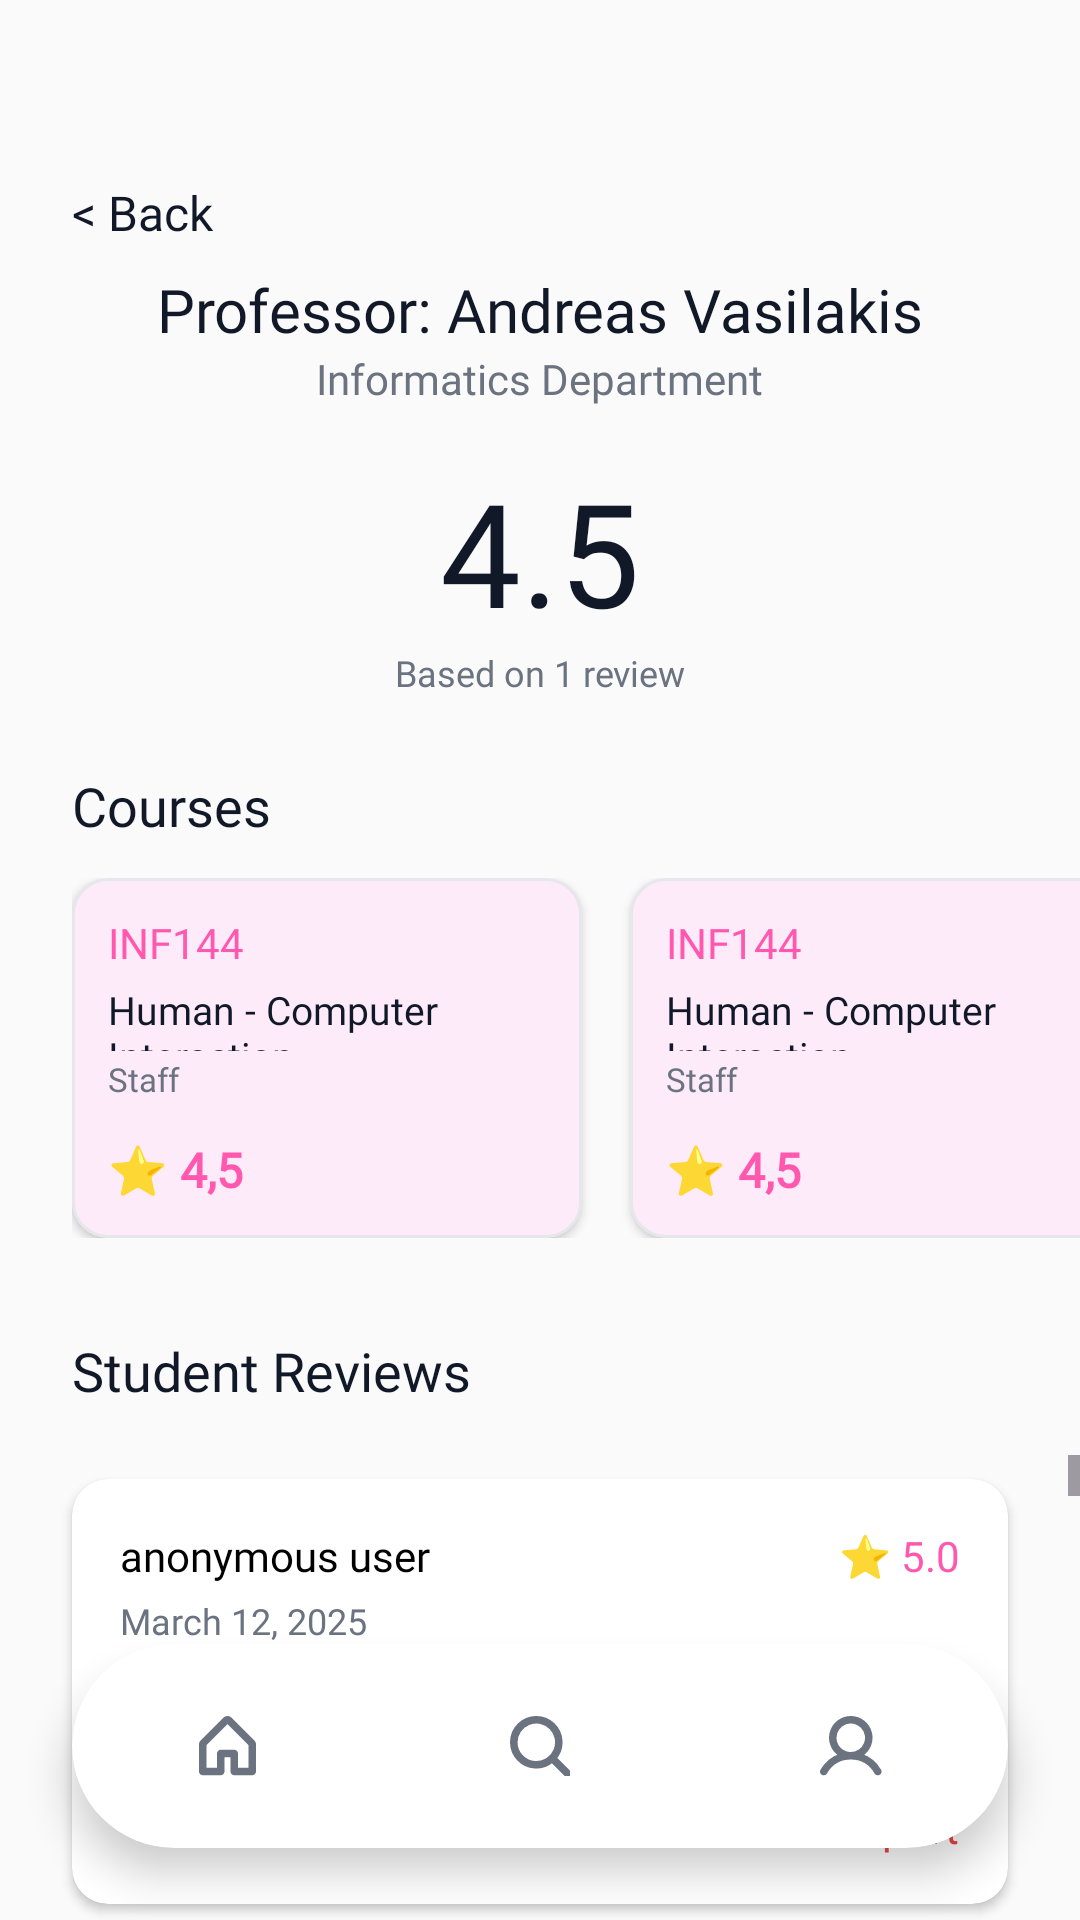

Named icons in this screenshot (1080w x 1920h) and their centers, (x=x, y=y):
home: (x=227, y=1746)
profile: (x=851, y=1746)
search: (x=540, y=1746)
